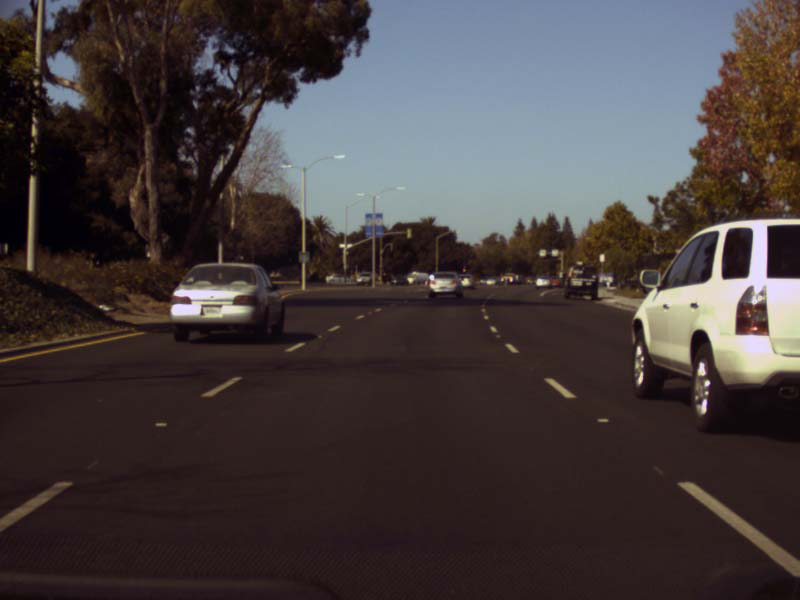Yellow: (462, 264, 467, 273)
